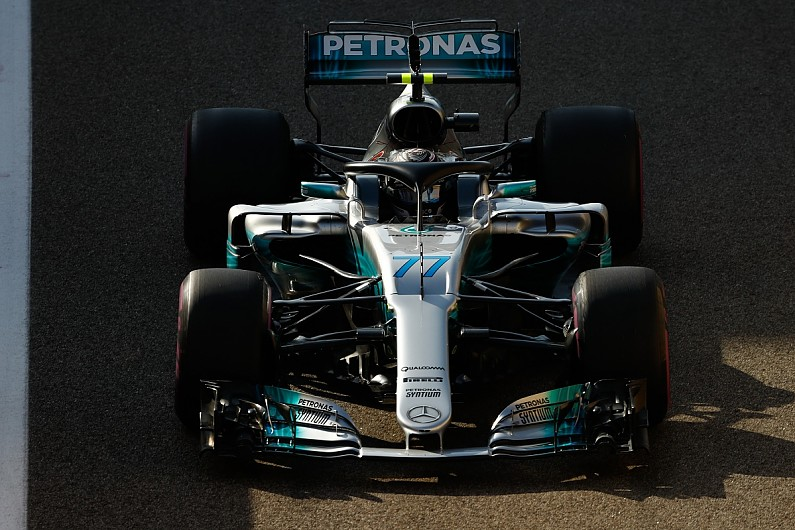f1_car: (163, 9, 687, 509)
